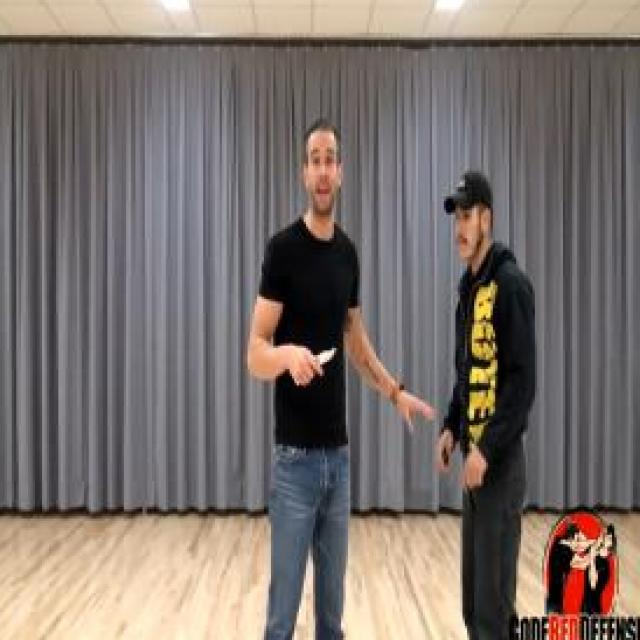knife: (294, 341, 339, 385)
